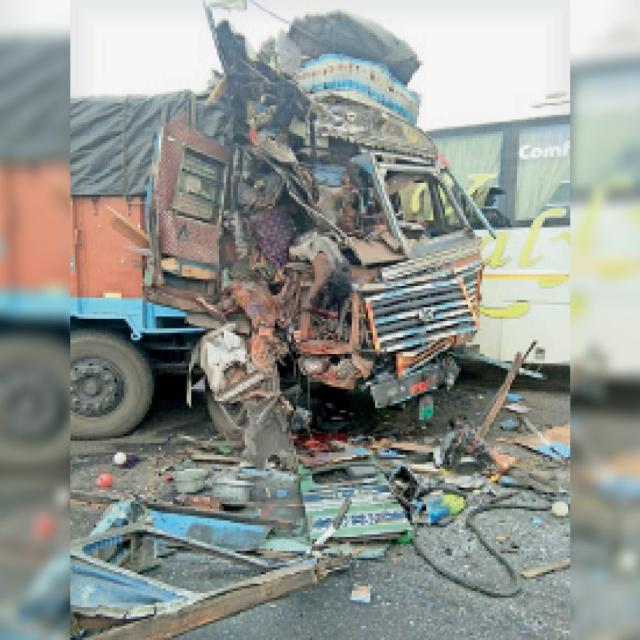accident: (70, 2, 490, 465), (430, 92, 570, 368)
